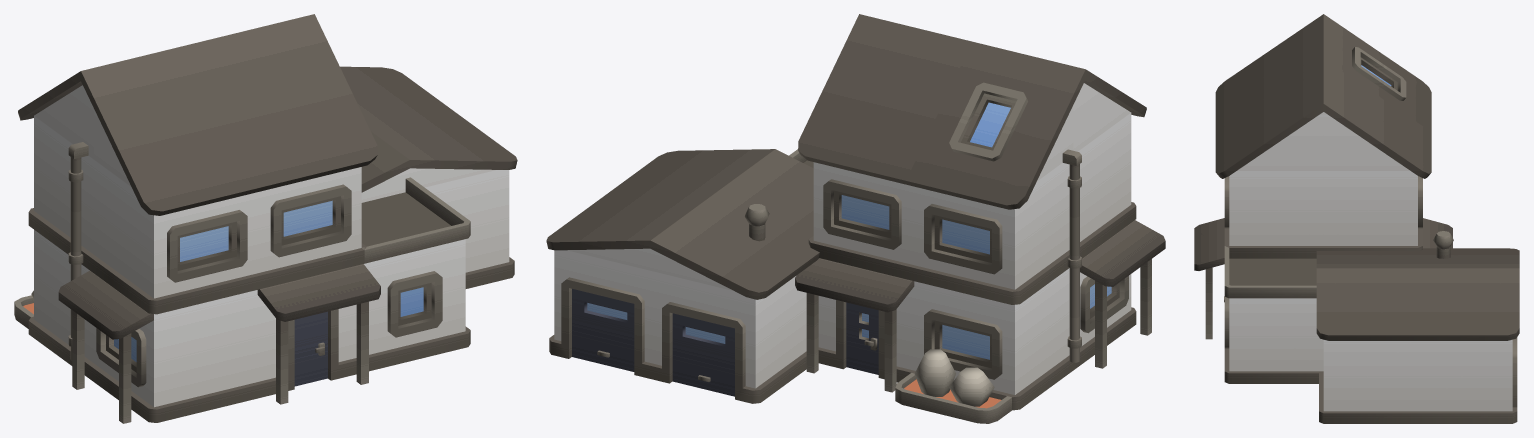
Rendered from sub-building-type-n.glb.
3 renders of one model, left to right at view 1: azimuth 30°, elevation 25°; view 2: azimuth 150°, elevation 25°; view 3: azimuth 270°, elevation 25°, orthographic. The views are drawn at different scales.
Visible parts, largest first — view 1: building-type-n; view 2: building-type-n; view 3: building-type-n.
Boxes of the visible parts, bbox=[...] form: building-type-n: bbox=[14, 14, 517, 423]; building-type-n: bbox=[546, 14, 1165, 423]; building-type-n: bbox=[1194, 14, 1519, 423].
Size of the model in its own units: 1.78 by 1.14 by 1.38.
Materials: 1 (1 with a texture image).
